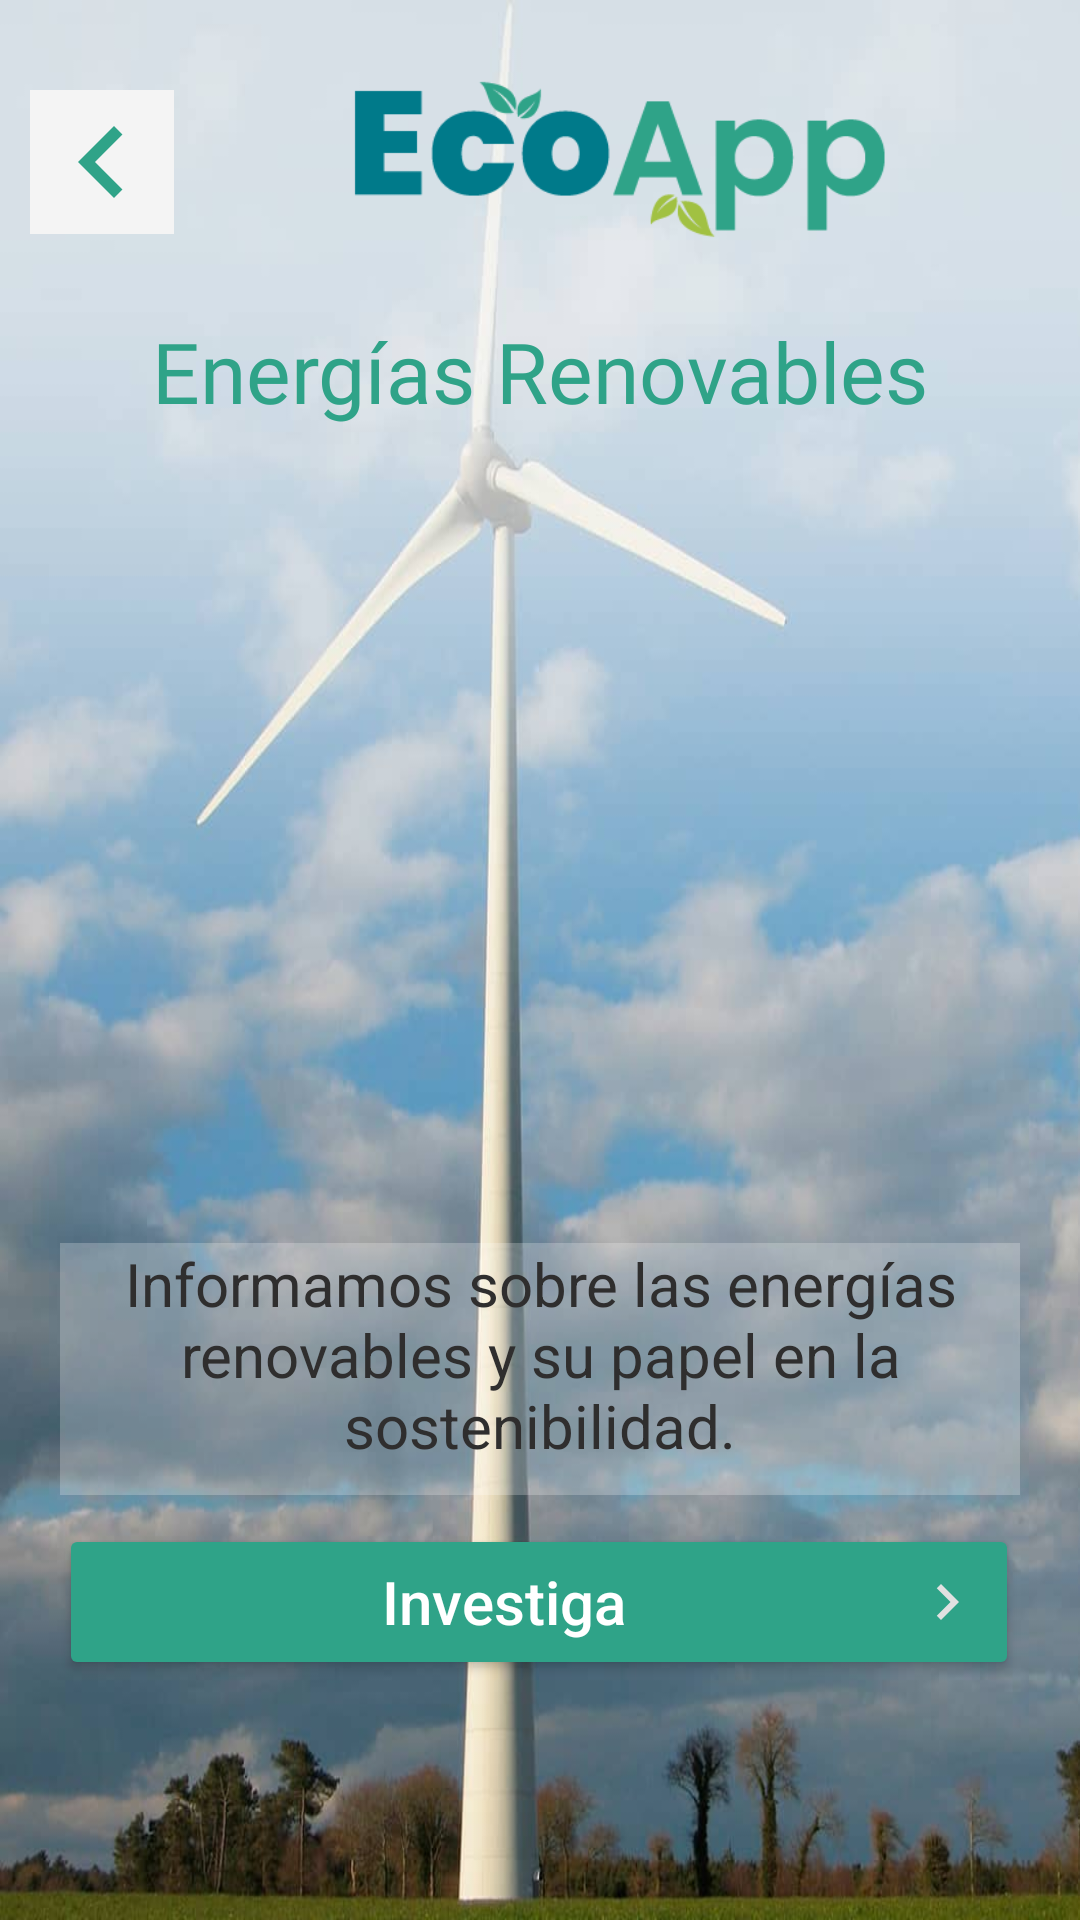

Where icons sit on this 1080px×1920px app screen, as (x1, y1, x2, y2):
navigate before: (30, 90, 174, 234)
